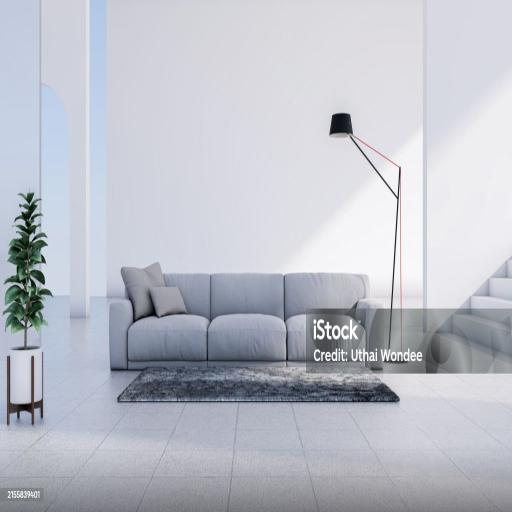back_cushion: (164, 274, 369, 319)
left_arm: (356, 299, 384, 350), (367, 355, 382, 369)
right_arm: (110, 299, 134, 369)
seat_cushion: (128, 314, 366, 366)
stallion-sofa2: (110, 263, 388, 369)
